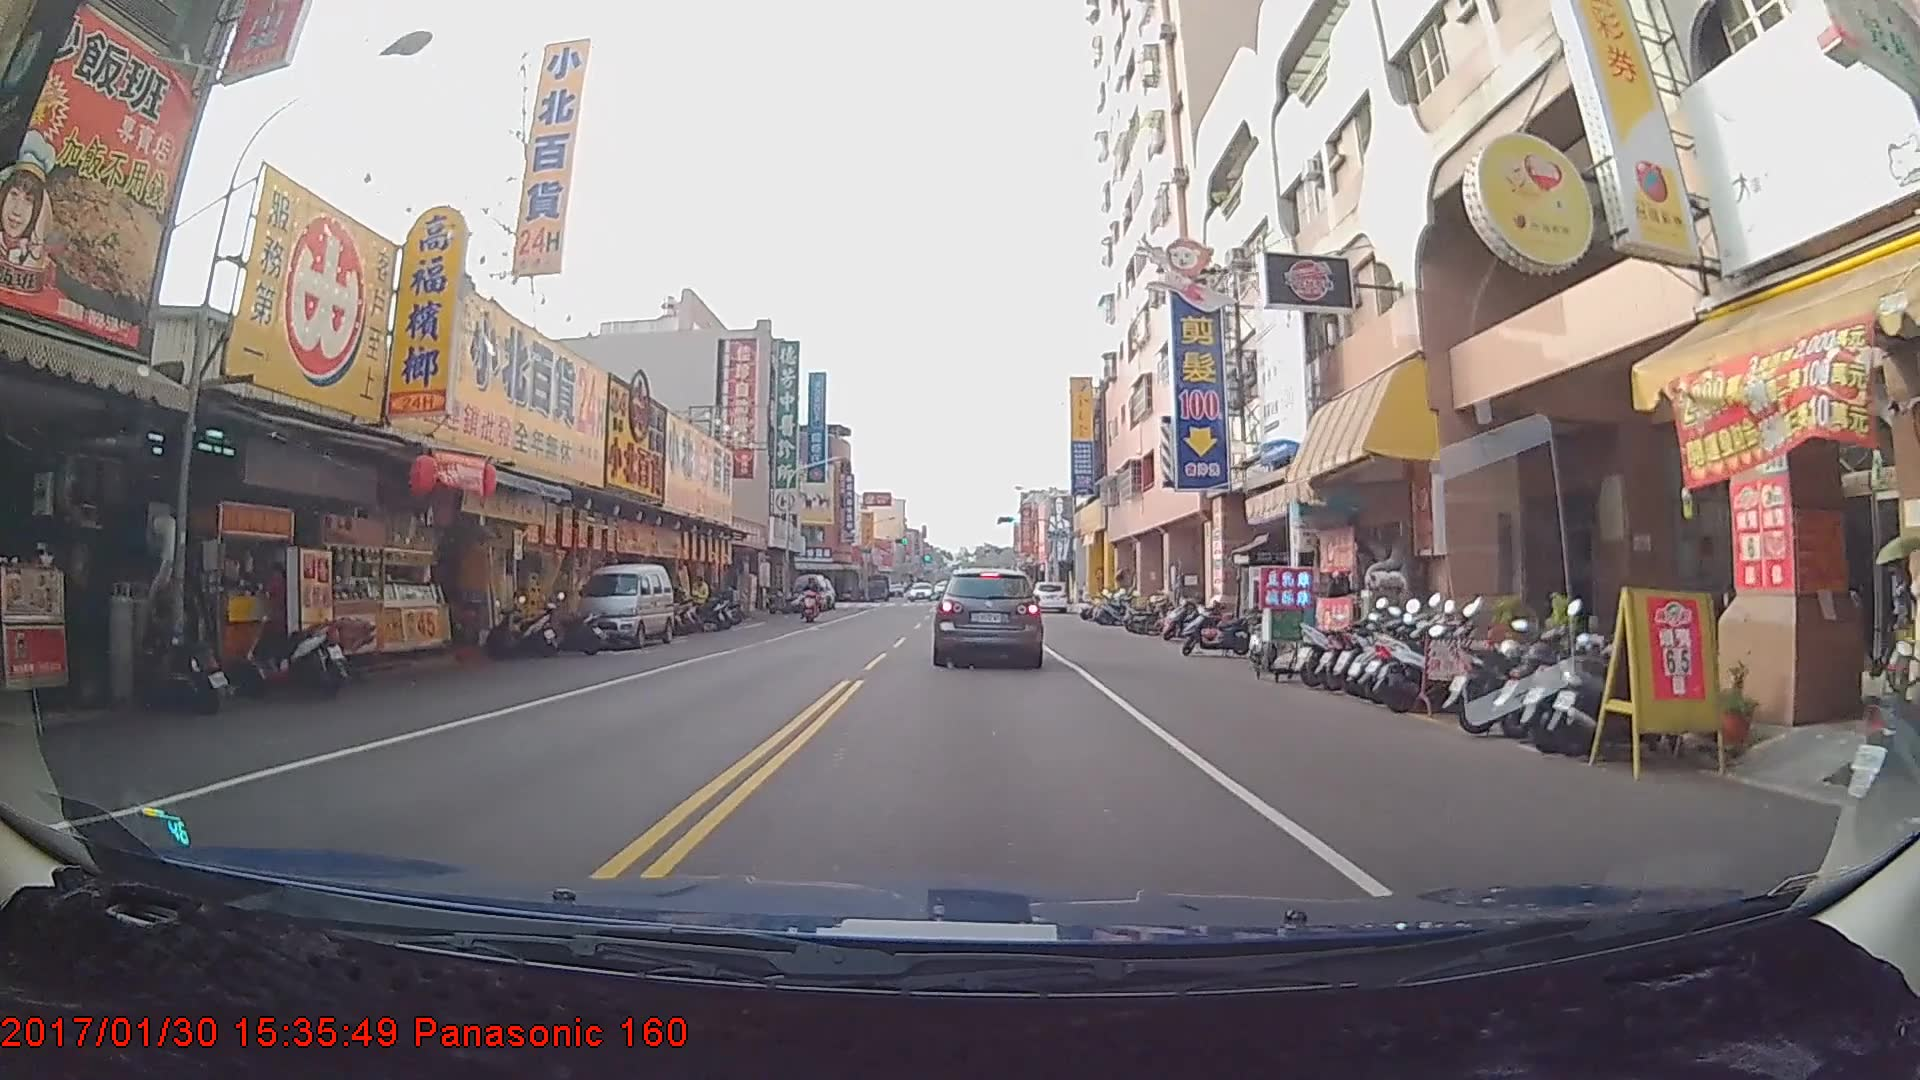pedestrian: (683, 574, 711, 626)
rider: (800, 575, 824, 624)
vehicle: (932, 566, 1044, 668), (570, 562, 674, 646), (792, 572, 827, 611), (1031, 581, 1067, 614)
